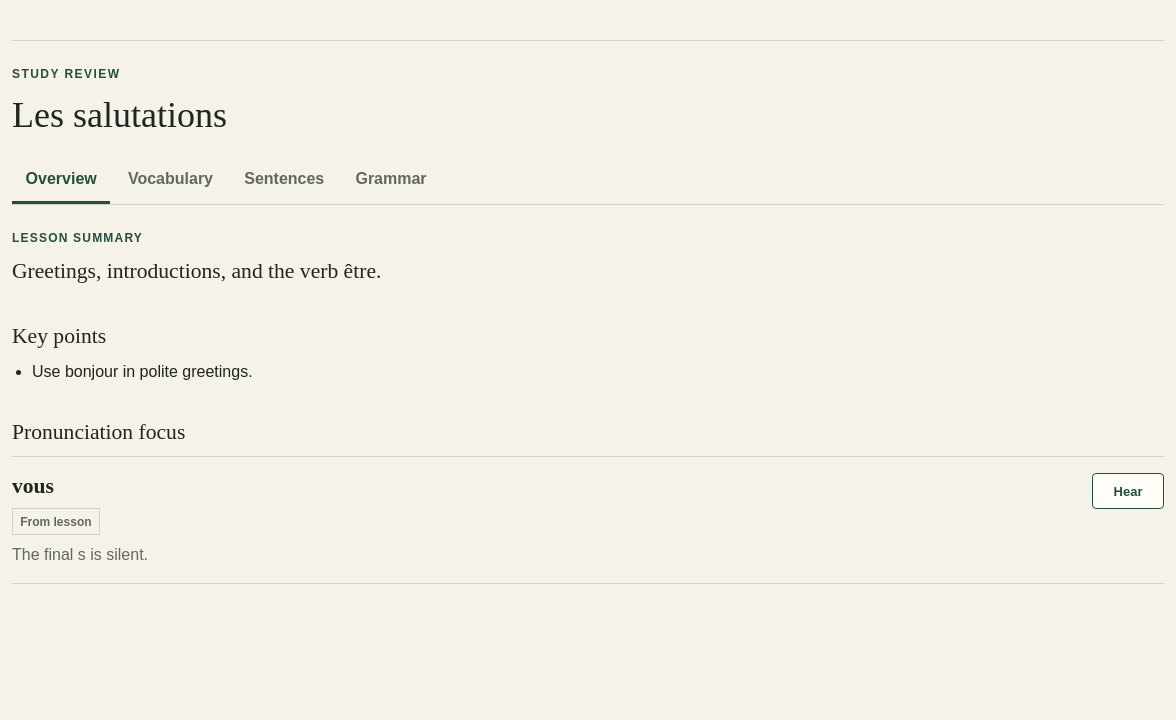
Test: structured lesson study rendering › renders mastery choices for every vocabulary item and sentence
Click the tab "Vocabulary": point(170, 180) [114,156,227,204]
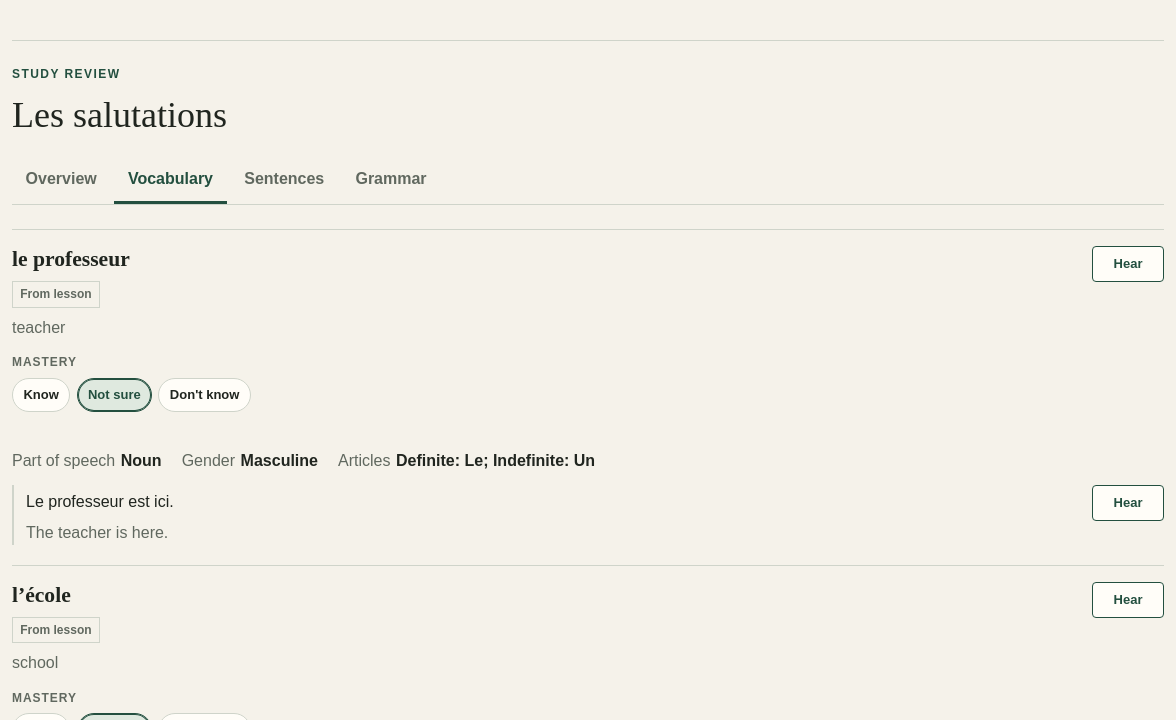
Expected: the number of elements named "Mastery for" is 4
Click the tab "Sentences": point(284, 180) [231,156,338,204]
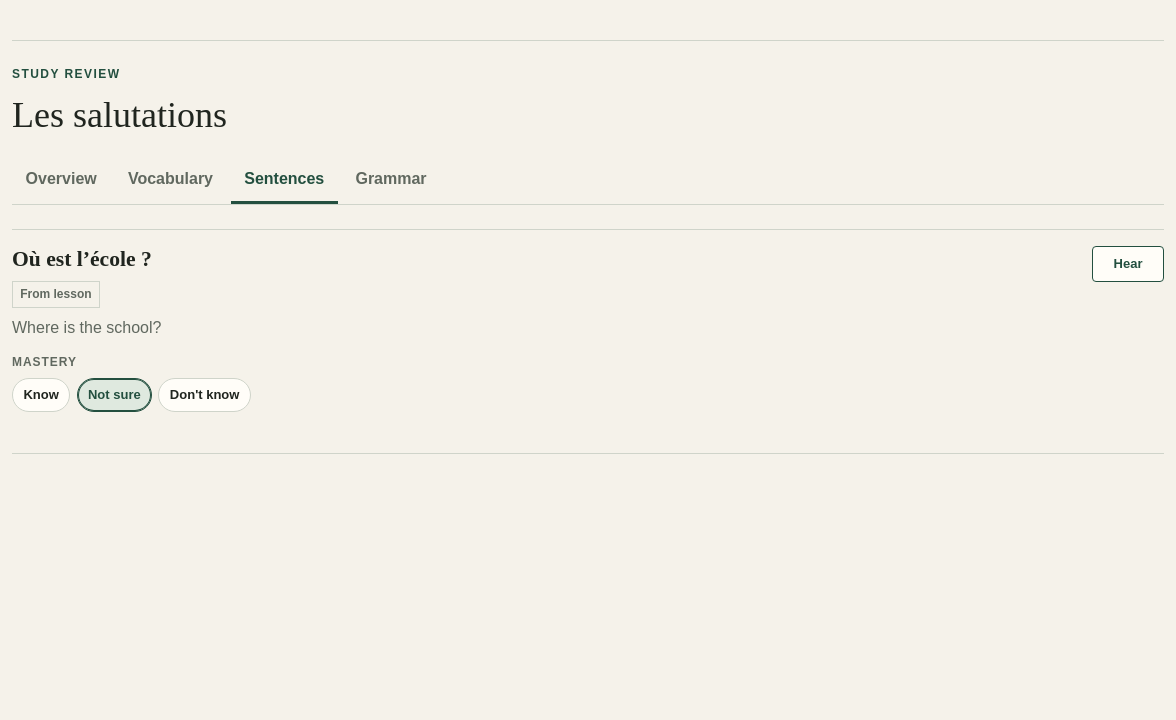
Expected: the radio button labelled "Not sure" is checked, [77,378,152,412]
Expected: the number of elements named "Mastery for" is 1, [12,355,251,412]
